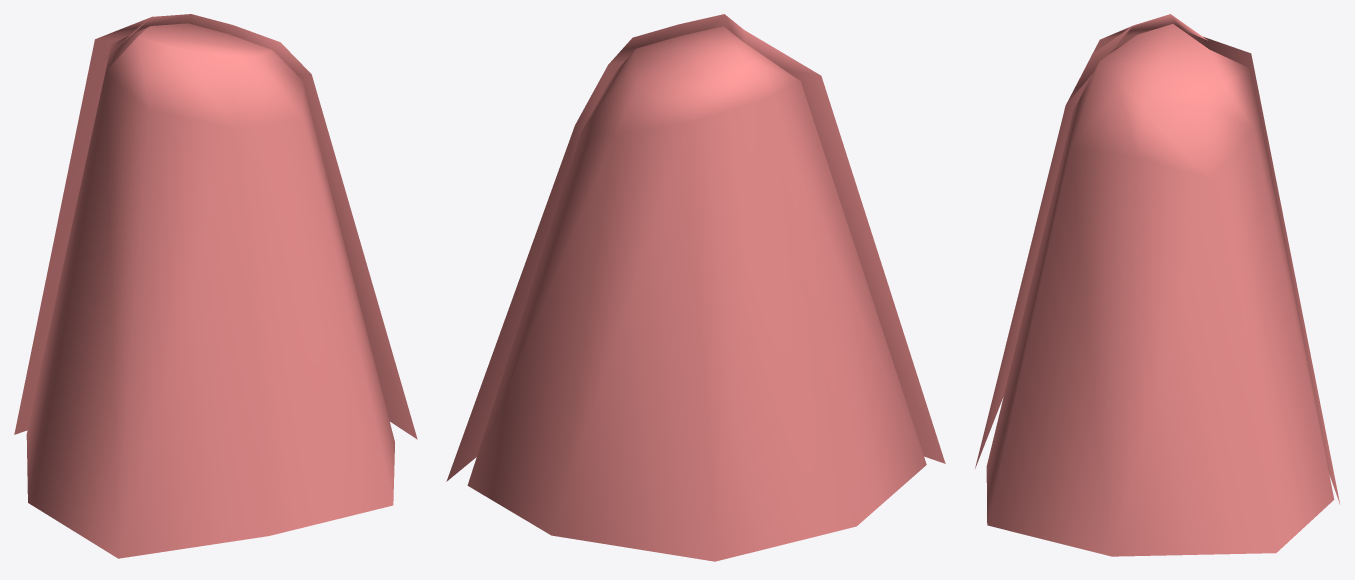
File: entity439586.gltf
3 renders of one model, left to right at view 1: azimuth 30°, elevation 25°; view 2: azimuth 150°, elevation 25°; view 3: azimuth 270°, elevation 25°, orthographic. The views are drawn at different scales.
Visible parts, largest first — view 1: node_rock6; view 2: node_rock6; view 3: node_rock6.
Part boxes in pixels (left/top/right/bottom): node_rock6: left=14, top=14, right=417, bottom=558; node_rock6: left=446, top=14, right=945, bottom=561; node_rock6: left=975, top=14, right=1340, bottom=556.
Size of the model in its own units: 649 by 749 by 571.
